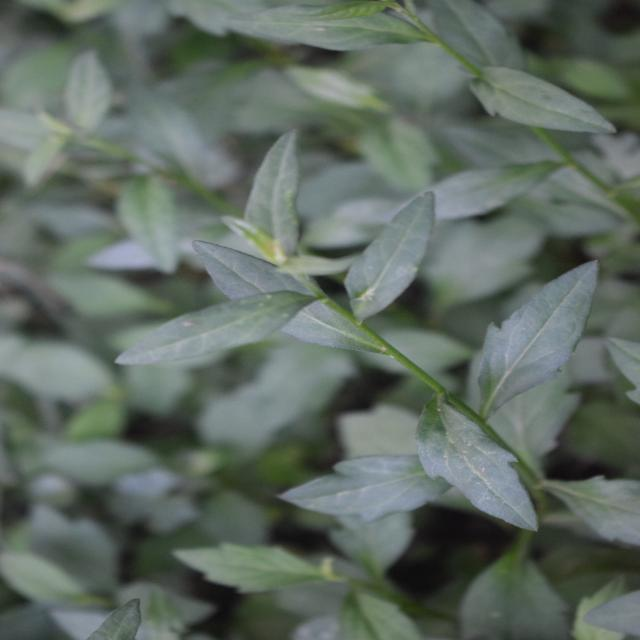Indian aster: (108, 125, 461, 599)
